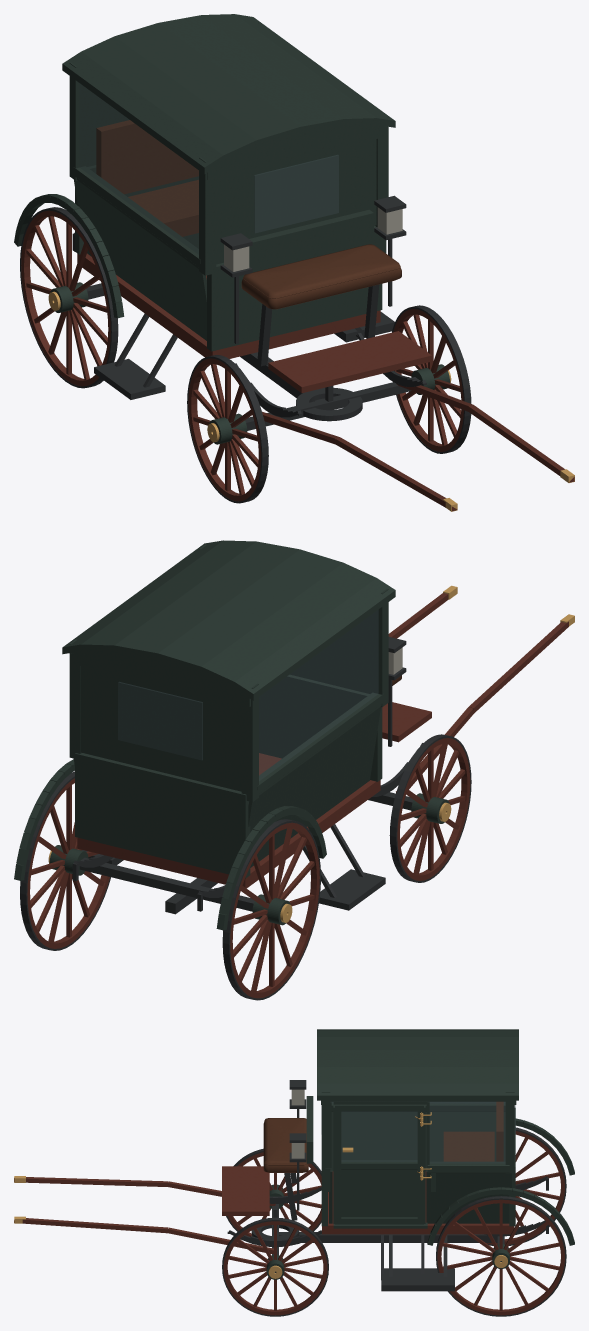
The model's file is carriage-c02.glb.
The picture shows the model from 3 angles, top to bottom: view 1: azimuth 30°, elevation 25°; view 2: azimuth 150°, elevation 25°; view 3: azimuth 270°, elevation 25°; orthographic projection. The views are drawn at different scales.
Parts seen in each view (by area): view 1: surface_1_0, surface_1_6, surface_1_2, surface_1_1, surface_295_1, surface_1_4, surface_335_1, surface_315_1, surface_355_1, surface_132_4, surface_335_4, surface_0_4 (+3 smaller); view 2: surface_1_0, surface_1_6, surface_295_1, surface_335_1, surface_1_1, surface_275_1, surface_1_4, surface_355_1, surface_131_4, surface_335_4, surface_295_4, surface_0_4 (+1 smaller); view 3: surface_1_0, surface_2_0, surface_1_6, surface_275_1, surface_1_1, surface_1_2, surface_2_6, surface_315_1, surface_1_4, surface_355_1, surface_0_4, surface_295_1 (+6 smaller).
Boxes of the visible parts, <box> form: surface_1_0: <box>14,14,395,351</box>; surface_1_6: <box>79,83,338,254</box>; surface_1_2: <box>96,120,401,309</box>; surface_1_1: <box>77,253,431,392</box>; surface_295_1: <box>21,210,110,386</box>; surface_1_4: <box>94,195,406,399</box>; surface_335_1: <box>188,358,261,501</box>; surface_315_1: <box>393,309,463,451</box>; surface_355_1: <box>262,384,574,511</box>; surface_132_4: <box>245,377,418,430</box>; surface_335_4: <box>187,355,268,503</box>; surface_0_4: <box>72,232,426,417</box>; surface_1_0: <box>14,540,395,930</box>; surface_1_6: <box>118,610,378,780</box>; surface_295_1: <box>230,822,319,998</box>; surface_335_1: <box>397,738,470,880</box>; surface_1_1: <box>77,702,431,888</box>; surface_275_1: <box>27,778,109,948</box>; surface_1_4: <box>82,637,406,910</box>; surface_355_1: <box>388,593,568,792</box>; surface_131_4: <box>79,857,254,911</box>; surface_335_4: <box>389,734,471,882</box>; surface_295_4: <box>222,819,320,1000</box>; surface_0_4: <box>72,743,422,914</box>; surface_1_0: <box>306,1029,574,1245</box>; surface_2_0: <box>333,1104,425,1224</box>; surface_1_6: <box>332,1101,515,1163</box>; surface_275_1: <box>437,1199,564,1315</box>; surface_1_1: <box>222,1166,514,1234</box>; surface_1_2: <box>263,1101,503,1172</box>; surface_2_6: <box>341,1111,417,1161</box>; surface_315_1: <box>223,1221,327,1315</box>; surface_1_4: <box>284,1080,454,1291</box>; surface_355_1: <box>14,1177,275,1253</box>; surface_0_4: <box>227,1176,548,1247</box>; surface_295_1: <box>486,1131,564,1244</box>.
Bounding box in the file's own units: 1.85 × 2.14 × 4.72.
Materials: 7 (3 with a texture image).
